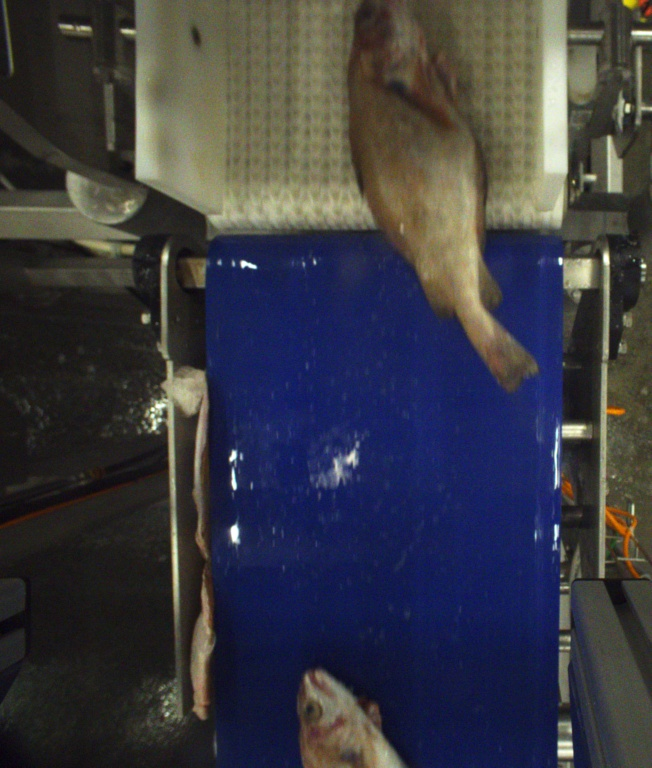BIB: (294, 672, 415, 768)
